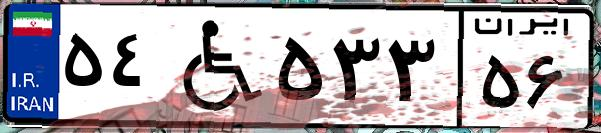3: (385, 28, 445, 110), (330, 28, 385, 110)
4: (110, 28, 158, 98)
5: (270, 28, 330, 110), (57, 26, 110, 100), (475, 38, 525, 113)
6: (525, 38, 570, 115)
ژ (معلولین و جانبازان): (158, 12, 270, 120)
